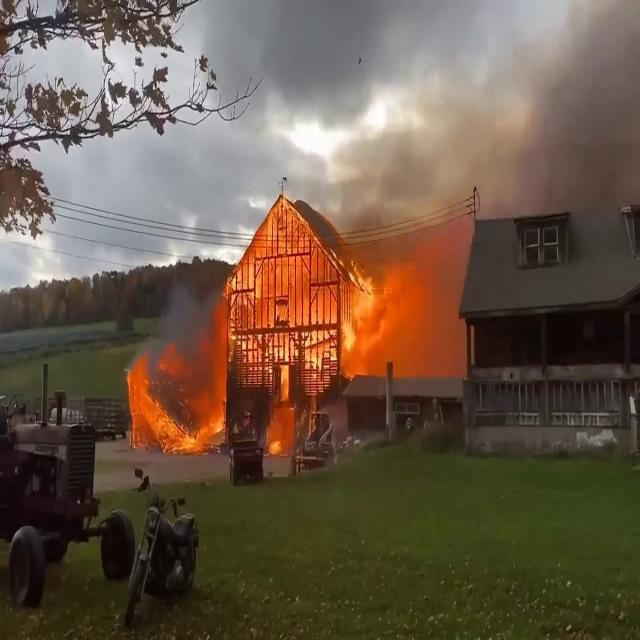Fire: (246, 213, 424, 384), (123, 343, 230, 456)
Smoke: (409, 8, 640, 214)
